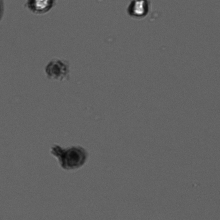Dead Cell: (57, 143, 88, 171), (44, 59, 69, 79)
Living Cell: (125, 1, 152, 18), (25, 1, 55, 12)
